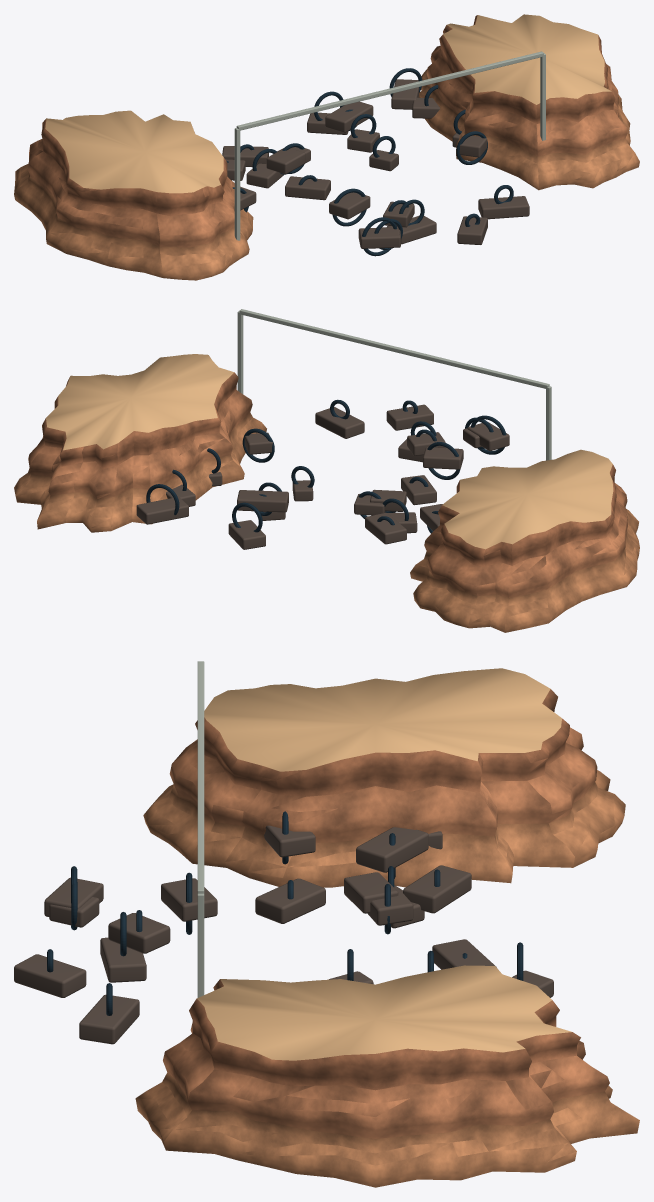
Rendered from scrap-graveyard-v1.glb.
3 renders of one model, top to bottom at view 1: azimuth 30°, elevation 25°; view 2: azimuth 150°, elevation 25°; view 3: azimuth 270°, elevation 25°, orthographic. The views are drawn at different scales.
Visible parts, largest first — view 1: scrap-graveyard mantle, scrap-graveyard strata 0, scrap-graveyard strata 1, scrap-graveyard alloy, scrap-graveyard strata 2, scrap-graveyard recess, scrap-graveyard trim; view 2: scrap-graveyard mantle, scrap-graveyard strata 0, scrap-graveyard strata 1, scrap-graveyard alloy, scrap-graveyard strata 2, scrap-graveyard recess, scrap-graveyard trim; view 3: scrap-graveyard mantle, scrap-graveyard strata 0, scrap-graveyard strata 1, scrap-graveyard strata 2, scrap-graveyard alloy, scrap-graveyard recess, scrap-graveyard trim.
Part boxes in pixels (x1,y1,x2,y2): scrap-graveyard mantle: (45,14,611,193); scrap-graveyard strata 0: (14,69,639,280); scrap-graveyard strata 1: (28,45,627,247); scrap-graveyard alloy: (222,79,529,248); scrap-graveyard strata 2: (41,15,615,216); scrap-graveyard recess: (226,68,513,256); scrap-graveyard trim: (234,51,545,240); scrap-graveyard mantle: (46,354,613,549); scrap-graveyard strata 0: (14,412,639,632); scrap-graveyard strata 1: (28,390,627,597); scrap-graveyard alloy: (136,404,509,549); scrap-graveyard strata 2: (42,372,616,566); scrap-graveyard recess: (146,399,506,533); scrap-graveyard trim: (237,309,551,460); scrap-graveyard mantle: (197,668,571,1060); scrap-graveyard strata 0: (135,770,639,1187); scrap-graveyard strata 1: (163,727,609,1138); scrap-graveyard strata 2: (189,689,580,1090); scrap-graveyard alloy: (14,825,553,1044); scrap-graveyard recess: (47,811,523,1015); scrap-graveyard trim: (197,661,204,997).
Size of the model in its own units: 106 by 22.55 by 64.52.
7 materials, 3 textured.
